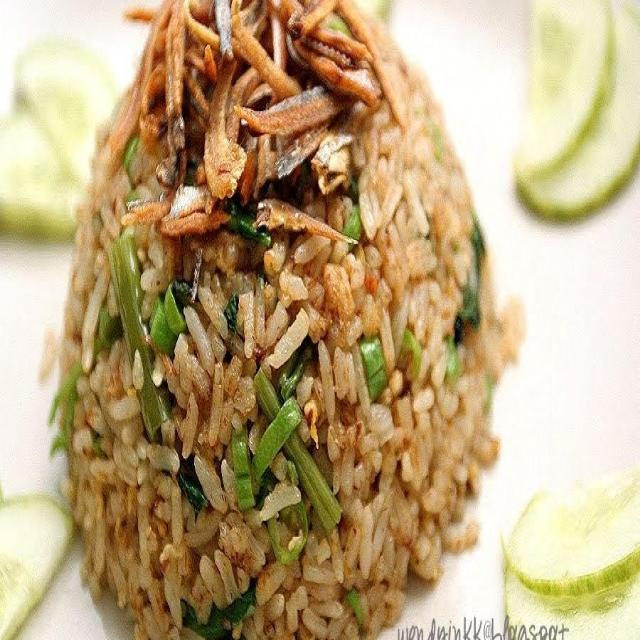Nasi Goreng: (50, 0, 518, 636)
